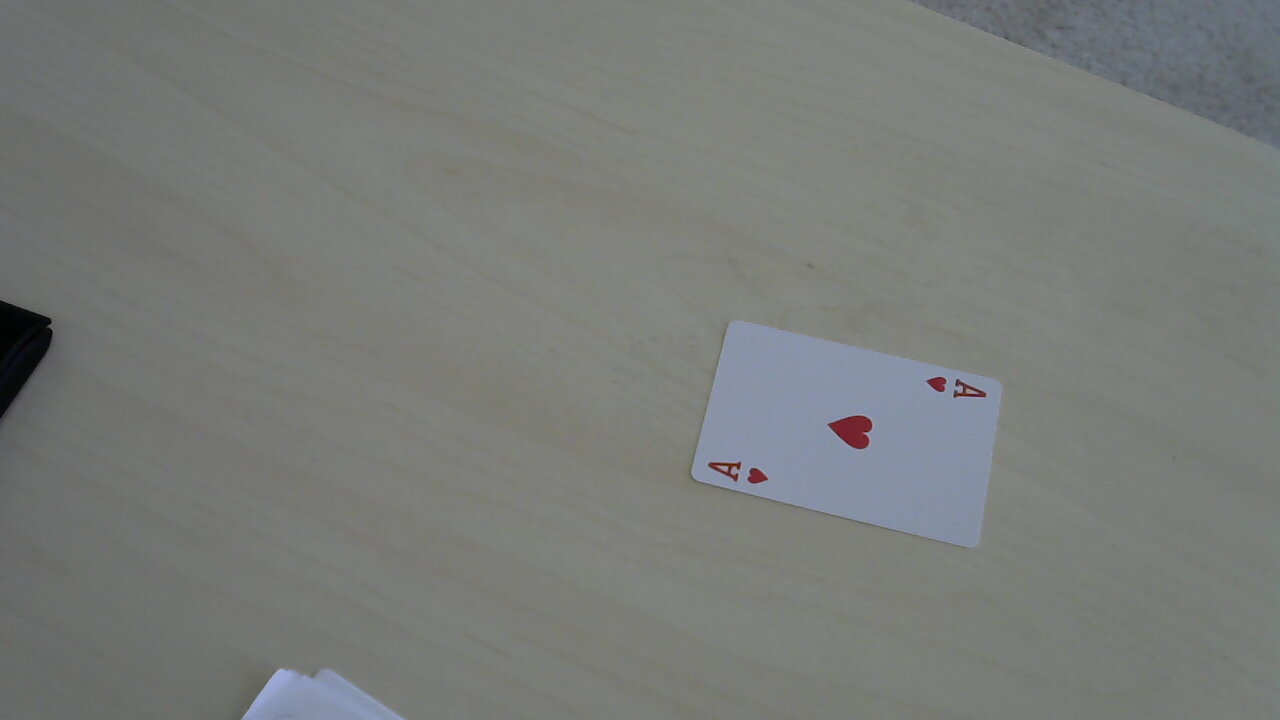one: (711, 376, 985, 487)
